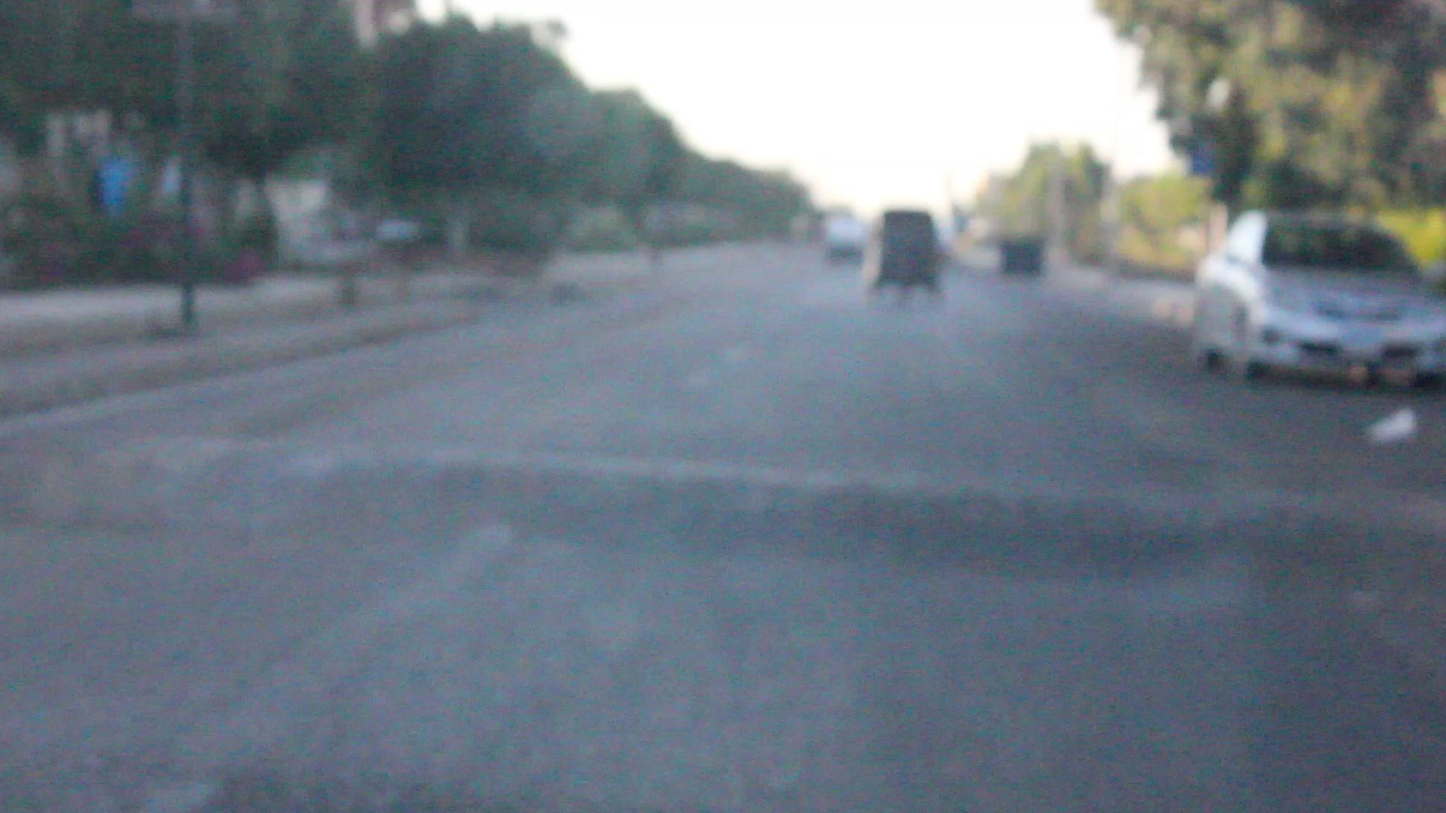Bump: (1, 417, 1444, 590)
